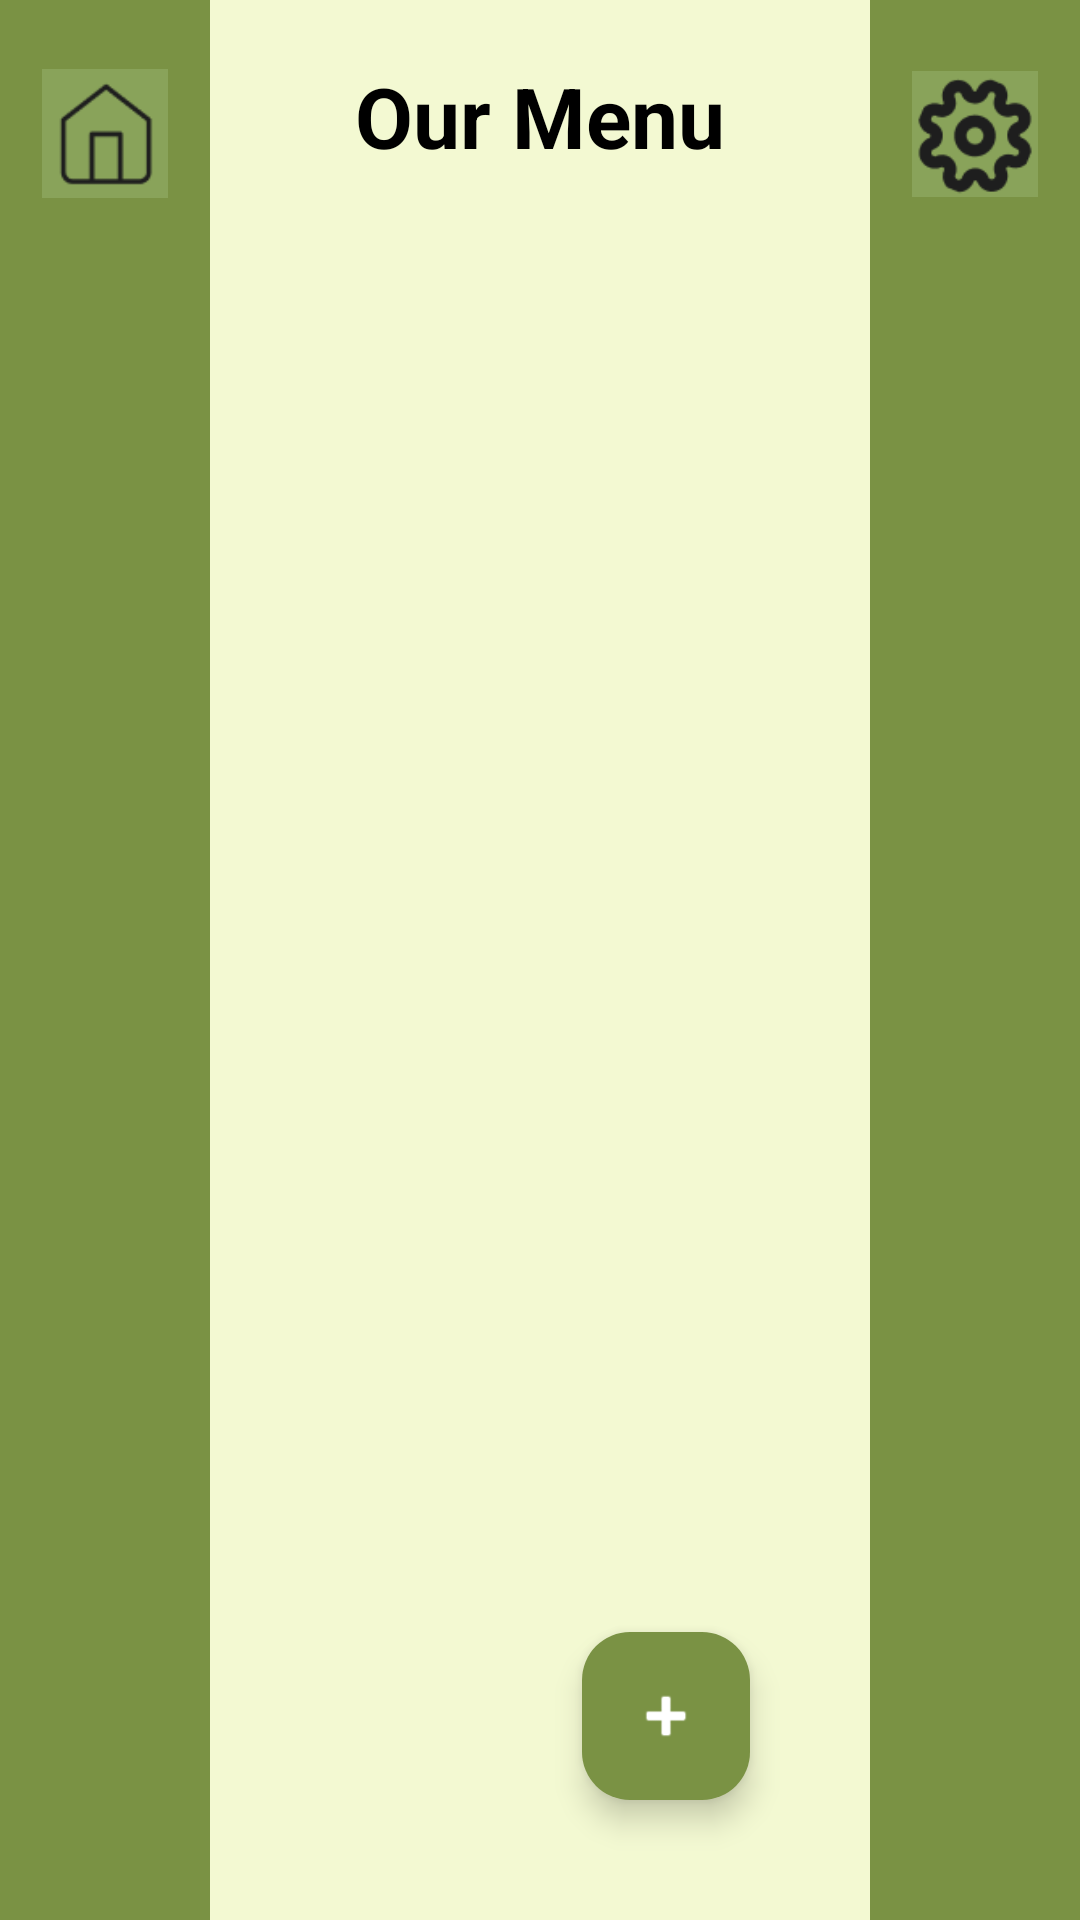

Locate icon controls on the screen. Image size 1080x1920, boxes as (x1, y1, x2, y2).
Add Menu Item: (582, 1632, 750, 1800)
Home Button: (42, 69, 168, 198)
Settings Button: (918, 80, 1032, 192)
